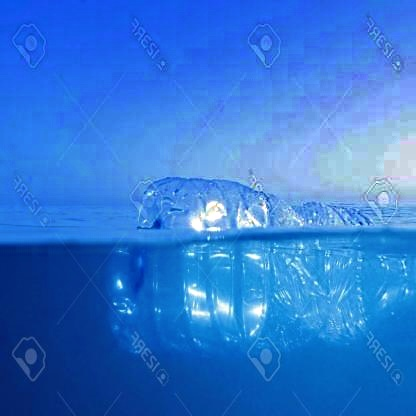pbottle: (131, 175, 416, 357)
